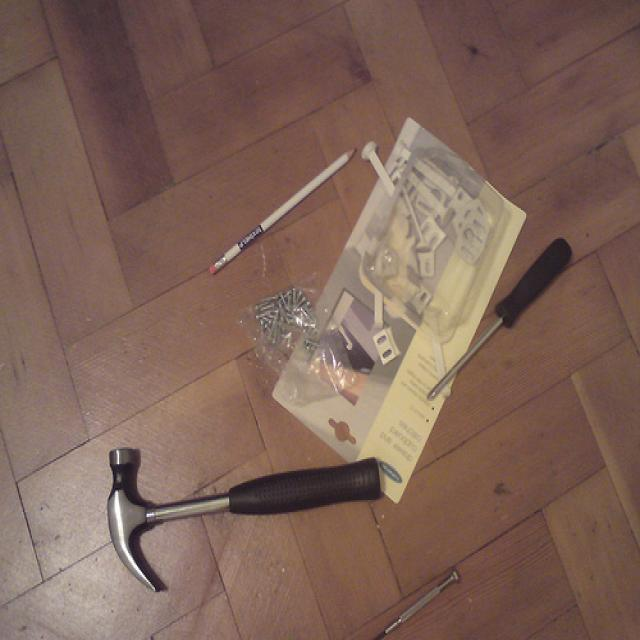hammer: (88, 441, 394, 612)
screwdriver: (416, 229, 576, 413), (351, 562, 482, 640)
